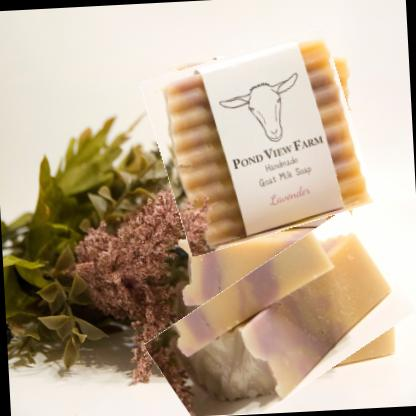soap: (144, 231, 413, 415), (147, 36, 368, 249)
